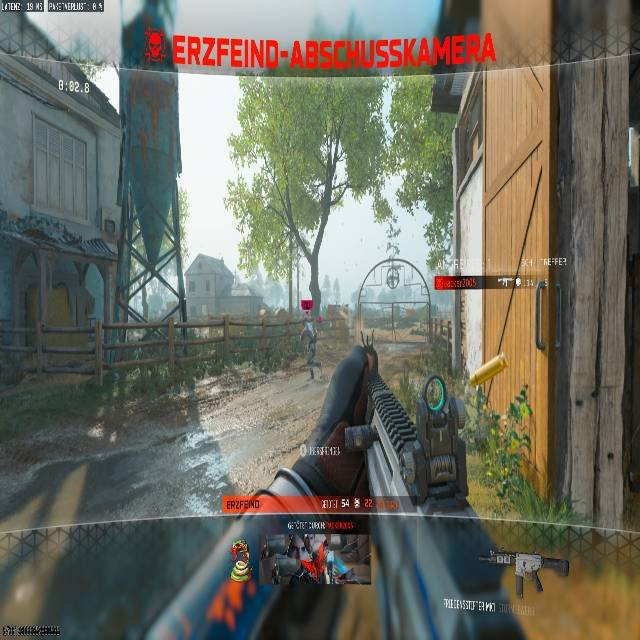player: (205, 512, 348, 639), (300, 316, 321, 381)
